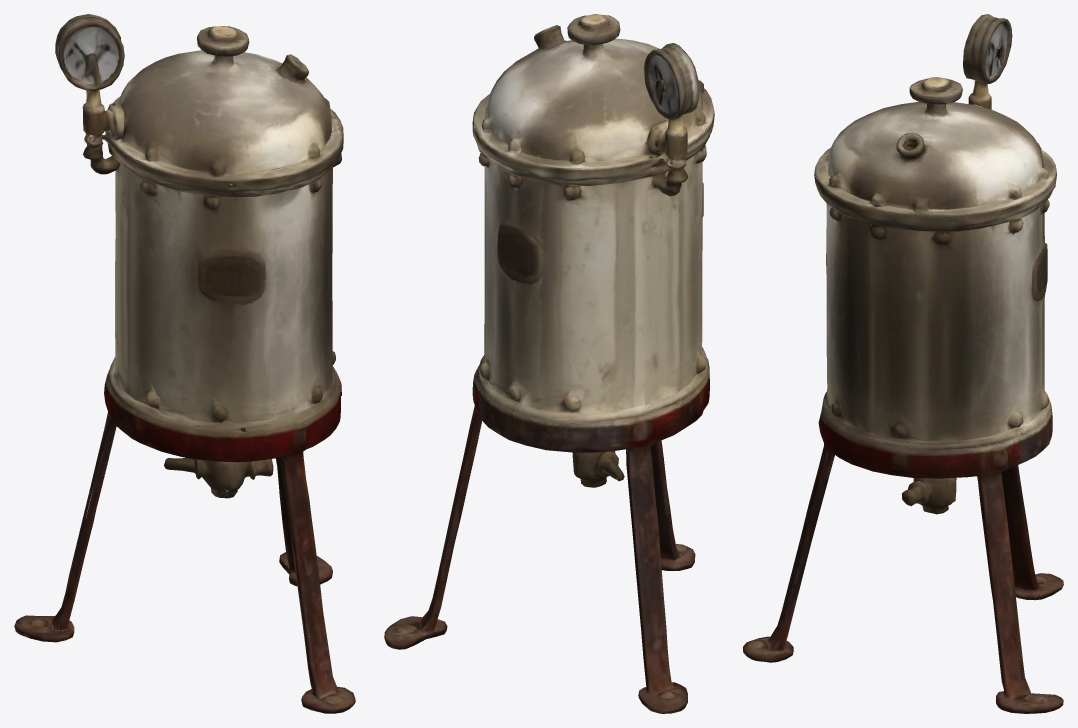
The model's file is autoclave.glb.
The picture shows the model from 3 angles, left to right: view 1: azimuth 30°, elevation 25°; view 2: azimuth 150°, elevation 25°; view 3: azimuth 270°, elevation 25°; orthographic projection. The views are drawn at different scales.
Parts seen in each view (by area): view 1: geometry_0; view 2: geometry_0; view 3: geometry_0.
Part boxes in pixels (box(x1,y1,x2,y2)): geometry_0: box(14, 14, 355, 713); geometry_0: box(384, 14, 714, 713); geometry_0: box(743, 14, 1063, 713).
Size of the model in its own units: 0.6 by 1.2 by 0.6.
Materials: 1 (1 with a texture image).
